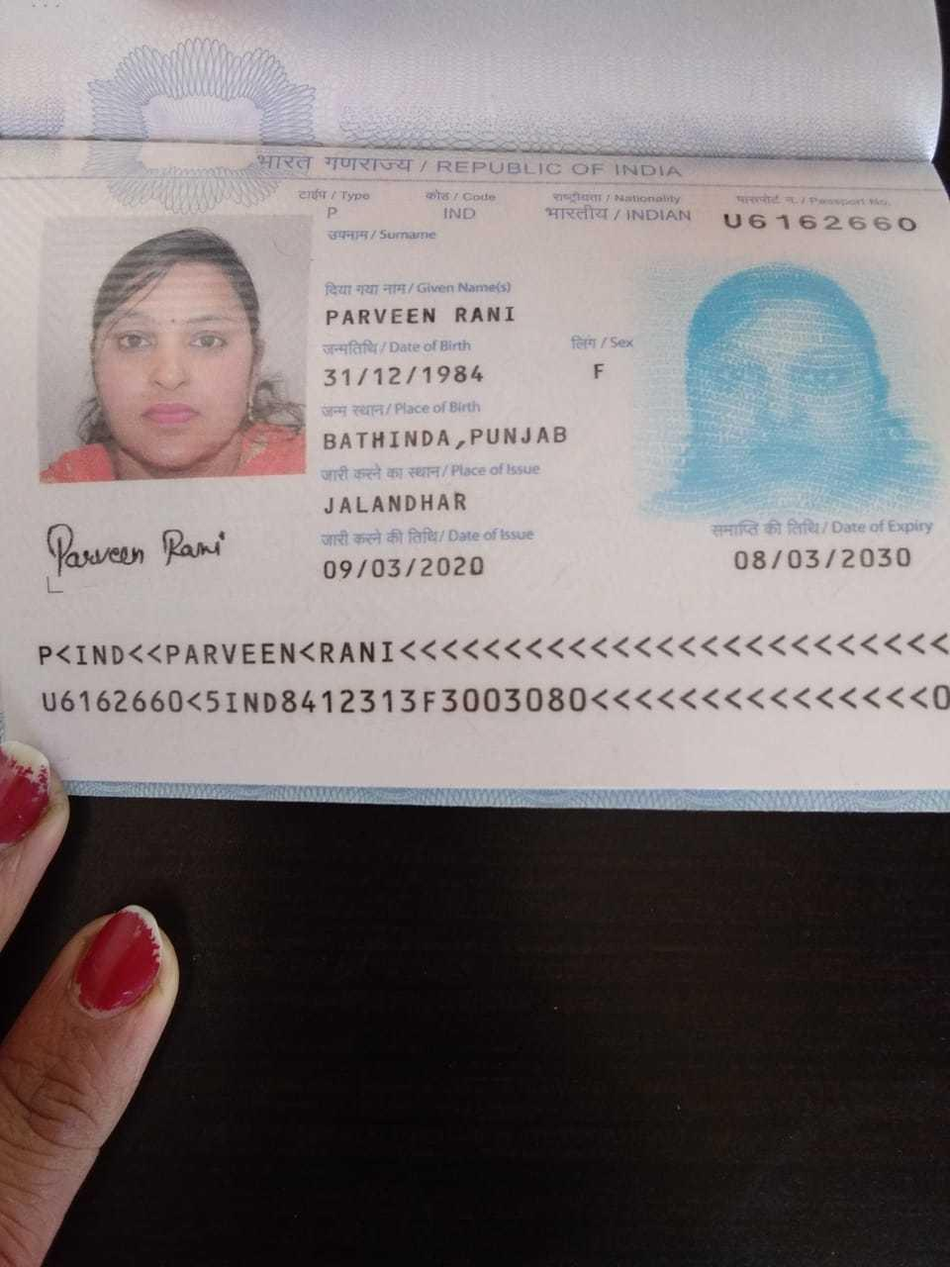DOB: (308, 354, 506, 395)
country_code: (434, 199, 486, 230)
date_of_expiry: (720, 536, 925, 580)
date_of_issue: (314, 547, 505, 590)
details: (20, 618, 950, 734)
name: (315, 299, 528, 332)
nationality: (527, 198, 704, 235)
passport_no: (714, 205, 929, 241)
photo: (40, 223, 303, 475)
place_of_birth: (317, 419, 590, 454)
place_of_issue: (318, 485, 482, 522)
sex: (582, 355, 624, 395)
sign: (38, 503, 258, 593)
type: (314, 198, 349, 223)
